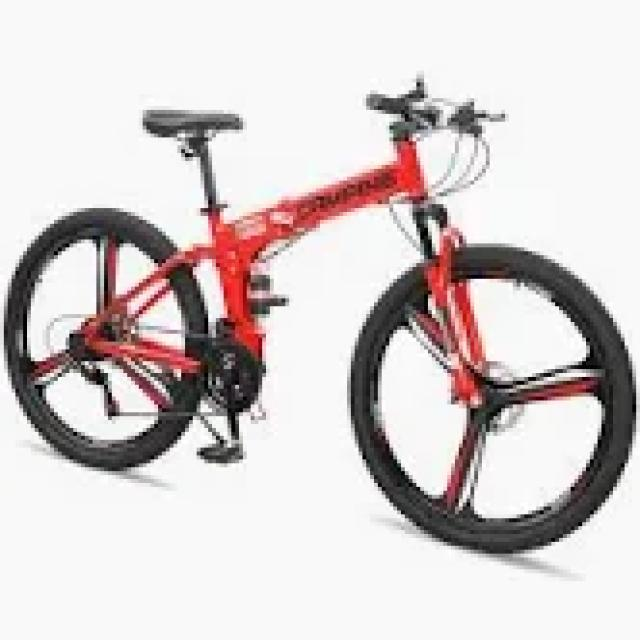bike: (0, 70, 636, 554)
